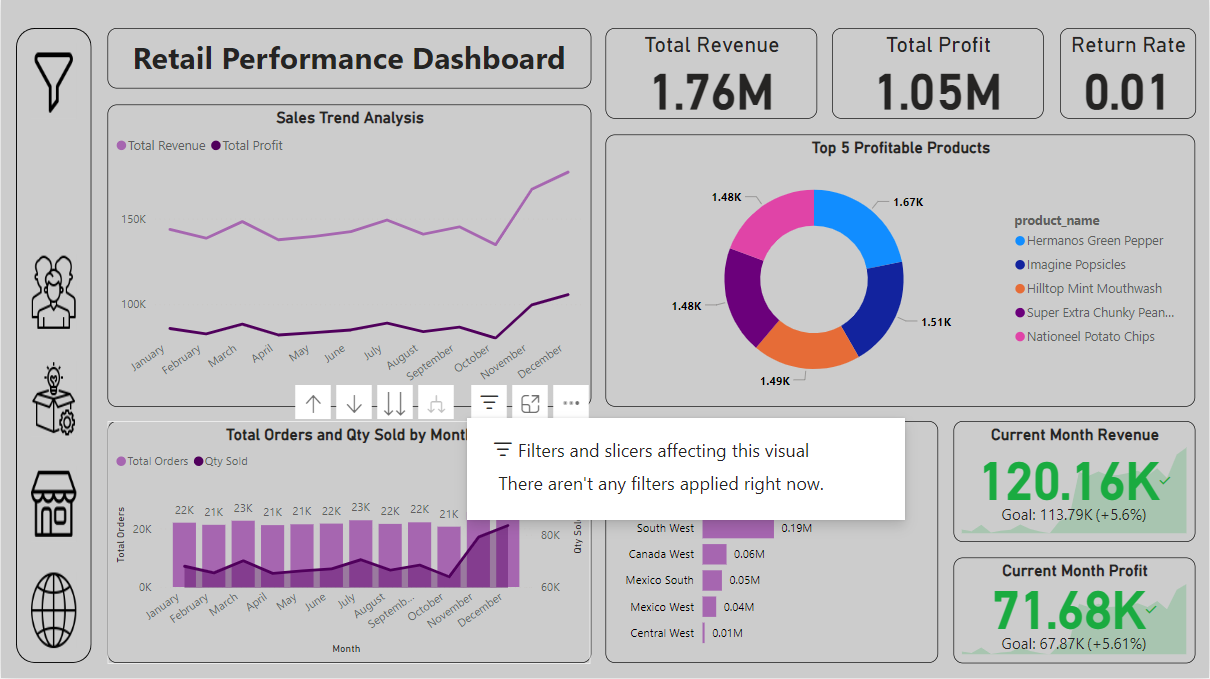

The page's visual inventory and layout, read from the dashboard file:
{"tool":"powerbi","page":{"name":"Dashboard","canvas":[1280,720],"ordinal":0},"visuals":[{"type":"card","title":"Total Revenue","fields":{"Values":["Measure Table.Total Revenue"]},"box":[640,32,224,96],"z":0},{"type":"card","title":"Total Profit","fields":{"Values":["Measure Table.Total Profit"]},"box":[880,32,224,96],"z":1000},{"type":"card","title":"Return Rate","fields":{"Values":["Measure Table.Return Rate"]},"box":[1120,32,144,96],"z":2000},{"type":"lineChart","title":"Sales Trend Analysis","fields":{"Category":["Calender.date.Variation.Date Hierarchy.Year","Calender.date.Variation.Date Hierarchy.Quarter","Calender.date.Variation.Date Hierarchy.Month"],"Y":["Measure Table.Total Revenue","Measure Table.Total Profit"]},"box":[112,112,512,320],"z":3000},{"type":"clusteredBarChart","title":"Profit by Region","fields":{"Category":["Regions.sales_region"],"Y":["Measure Table.Total Profit"]},"box":[640,448,352,256],"z":4000},{"type":"lineStackedColumnComboChart","fields":{"Category":["Calender.date.Variation.Date Hierarchy.Year","Calender.date.Variation.Date Hierarchy.Quarter","Calender.date.Variation.Date Hierarchy.Month","Calender.date.Variation.Date Hierarchy.Day"],"Y":["Measure Table.Total Orders"],"Y2":["Measure Table.Qty Sold"]},"box":[112,448,512,256],"z":5000},{"type":"donutChart","title":"Top 5 Profitable Products","fields":{"Category":["Products.product_name"],"Y":["Measure Table.Total Profit"]},"box":[640,144,624,288],"z":6000},{"type":"textbox","box":[112,32,512,64],"z":7000},{"type":"kpi","title":"Current Month Profit","fields":{"TrendLine":["Calender.Start of Month"],"Indicator":["Measure Table.Total Profit"],"Goal":["Measure Table.Prev Month Profit"]},"box":[1008,592,256,112],"z":8000},{"type":"kpi","title":"Current Month Revenue","fields":{"TrendLine":["Calender.Start of Month"],"Indicator":["Measure Table.Total Revenue"],"Goal":["Measure Table.Prev Month Revenue"]},"box":[1008,448,256,128],"z":9000},{"type":"shape","box":[16,32,80,672],"z":10000},{"type":"actionButton","box":[32,48,48,80],"z":11000},{"type":"actionButton","box":[32,272,48,80],"z":12000},{"type":"actionButton","box":[32,496,48,80],"z":13000},{"type":"actionButton","box":[32,608,48,80],"z":14000},{"type":"actionButton","box":[32,384,48,80],"z":15000}]}

Visuals, with their boxes on the page's 1280x720 design canvas (x1, y1, x2, y2). These are canvas units, not pixel positions in the 1210x679 screenshot, which may show the page scaled, cropped or inside an application window:
"Total Revenue" card: select_region(640, 32, 864, 128)
"Total Profit" card: select_region(880, 32, 1104, 128)
"Return Rate" card: select_region(1120, 32, 1264, 128)
"Sales Trend Analysis" lineChart: select_region(112, 112, 624, 432)
"Profit by Region" clusteredBarChart: select_region(640, 448, 992, 704)
lineStackedColumnComboChart - Calender.date.Variation.Date Hierarchy.Year x Calender.date.Variation.Date Hierarchy.Quarter: select_region(112, 448, 624, 704)
"Top 5 Profitable Products" donutChart: select_region(640, 144, 1264, 432)
textbox: select_region(112, 32, 624, 96)
"Current Month Profit" kpi: select_region(1008, 592, 1264, 704)
"Current Month Revenue" kpi: select_region(1008, 448, 1264, 576)
shape: select_region(16, 32, 96, 704)
actionButton: select_region(32, 48, 80, 128)
actionButton: select_region(32, 272, 80, 352)
actionButton: select_region(32, 496, 80, 576)
actionButton: select_region(32, 608, 80, 688)
actionButton: select_region(32, 384, 80, 464)
